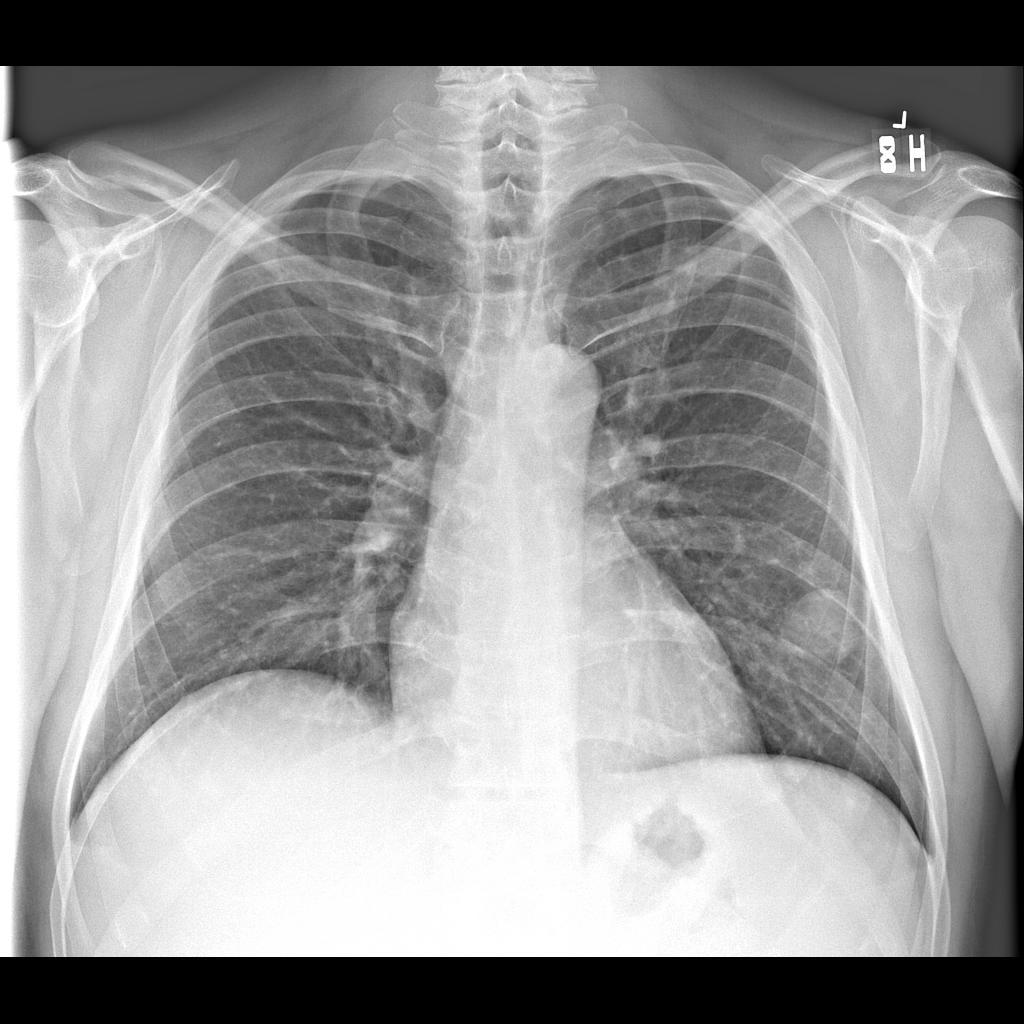Nodule: (777, 580, 869, 674)
